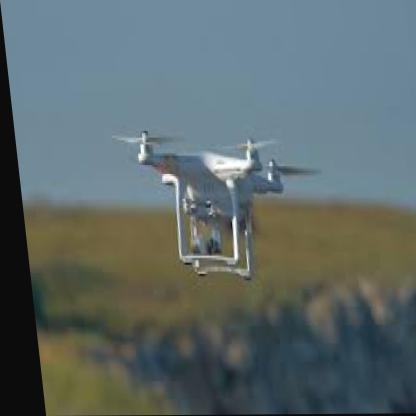UAS: (109, 130, 326, 281)
